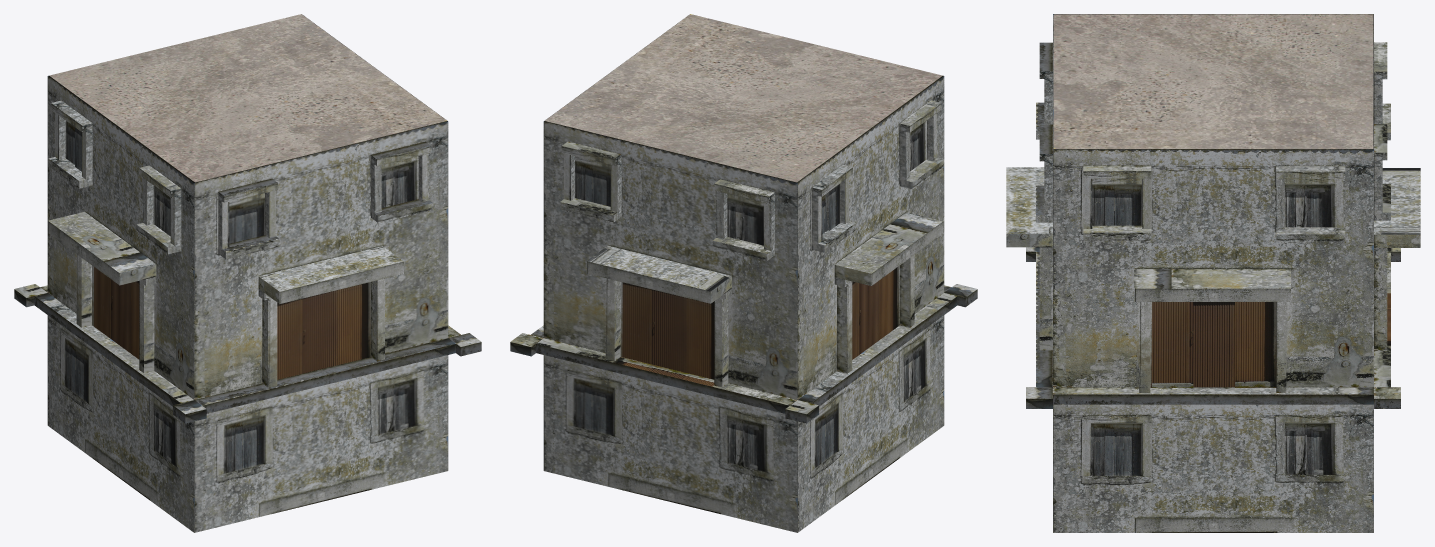
Rendered from BagBuilding12_70.fbx.
3 views of the same model, side by side, from view 1: azimuth 30°, elevation 25°; view 2: azimuth 150°, elevation 25°; view 3: azimuth 270°, elevation 25° (orthographic). The views are drawn at different scales.
Parts seen in each view (by area): view 1: main70, roof70, Box70; view 2: main70, roof70, Box70; view 3: main70, roof70, Box70.
Boxes of the visible parts, left/top/right/bottom form: main70: left=14, top=15, right=481, bottom=532; roof70: left=49, top=14, right=446, bottom=182; Box70: left=49, top=76, right=447, bottom=379; main70: left=510, top=15, right=977, bottom=532; roof70: left=545, top=14, right=942, bottom=182; Box70: left=544, top=76, right=942, bottom=379; main70: left=1006, top=14, right=1420, bottom=532; roof70: left=1053, top=14, right=1373, bottom=148; Box70: left=1053, top=149, right=1373, bottom=387.
Bounding box in the file's own units: 18.84 × 19.24 × 18.84.
